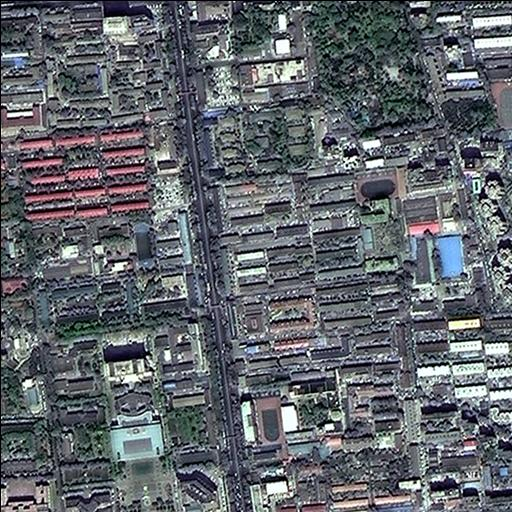school: (352, 166, 408, 276), (92, 214, 158, 273), (240, 386, 298, 448)
